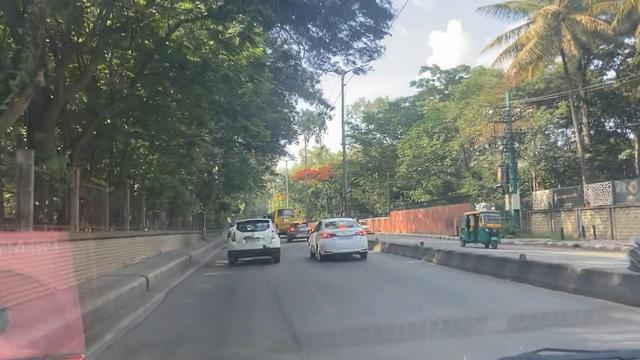LMV: (229, 217, 280, 260), (313, 218, 366, 258)
